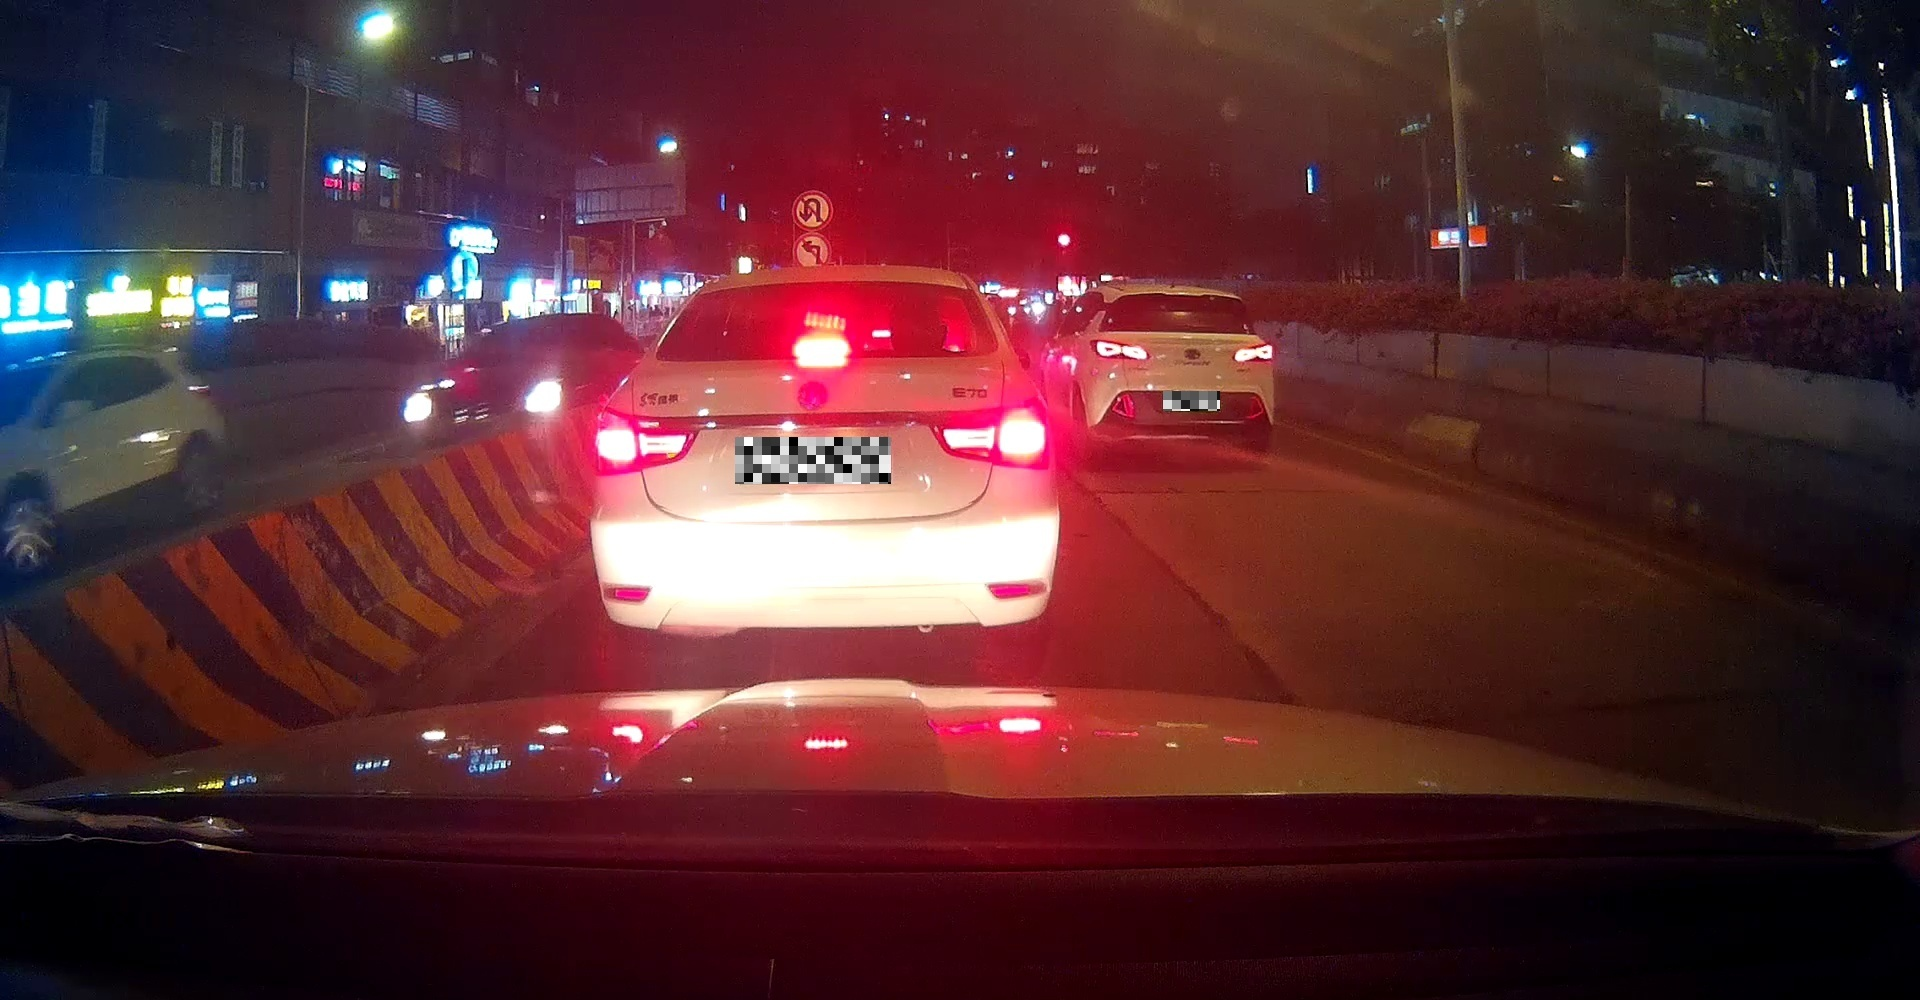L_light: (589, 406, 698, 476), (1090, 338, 1149, 363)
R_light: (924, 404, 1050, 470), (1230, 340, 1272, 363)
T_light: (791, 335, 850, 360), (1166, 292, 1205, 301)
night-brake: (589, 265, 1059, 665)
night-no: (1079, 286, 1277, 445)
plate_1: (735, 437, 891, 484)
plate_2: (1163, 391, 1220, 411)
